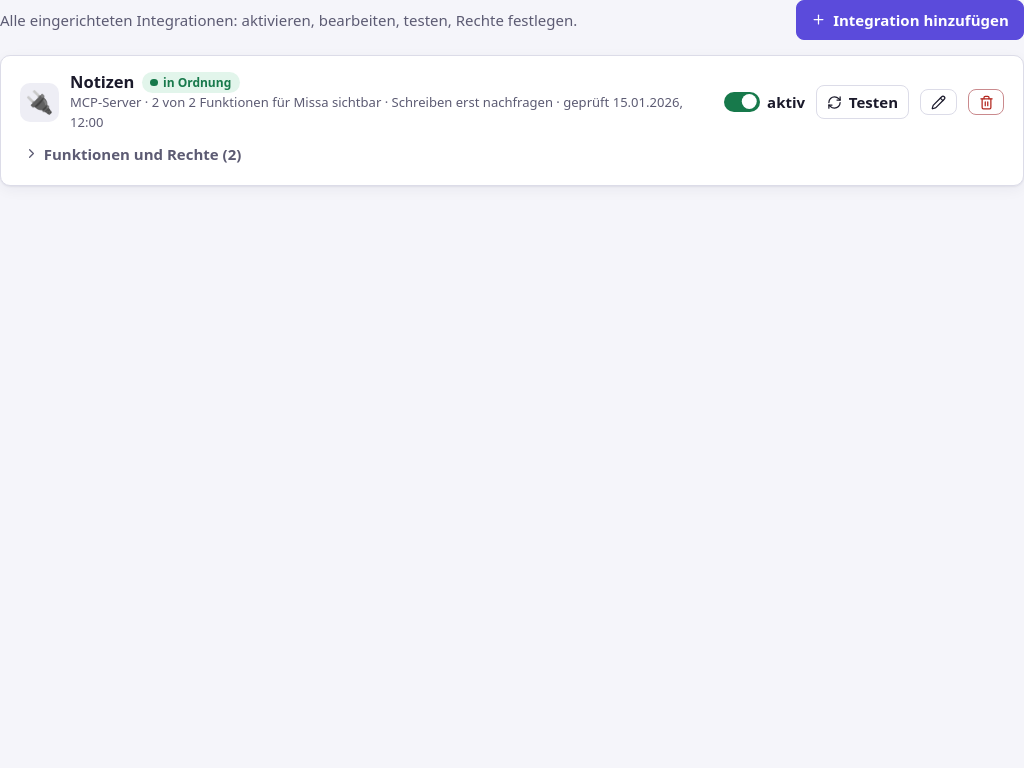
Test: Bearbeiten speichert Name und Formular, Entfernen fragt nach
Click the button named "Notizen bearbeiten": (938, 102) [920,89,956,115]
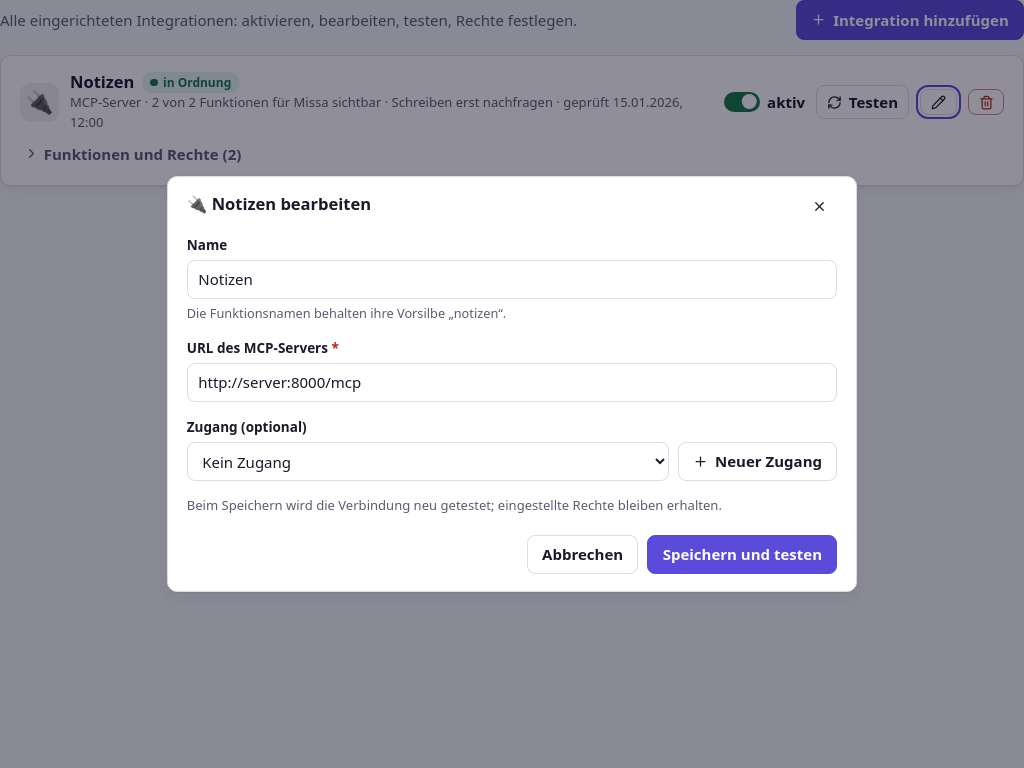
Expected: the field labelled "URL des MCP-Servers *" holds "http://server:8000/mcp", [187,362,837,402]
Replace the text in the field labelled "Name" with "Meine Notizen": (512, 279) [187,260,837,299]
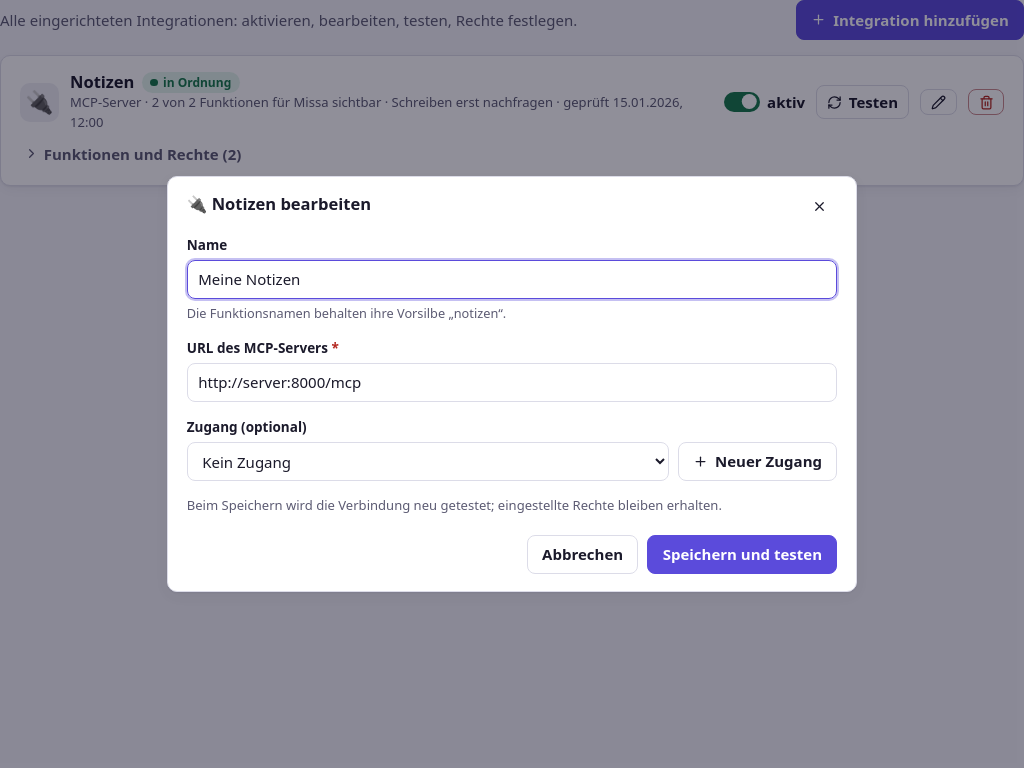
Replace the text in the field labelled "URL des MCP-Servers *" with "http://neu:9000/mcp": (512, 382) [187,362,837,402]
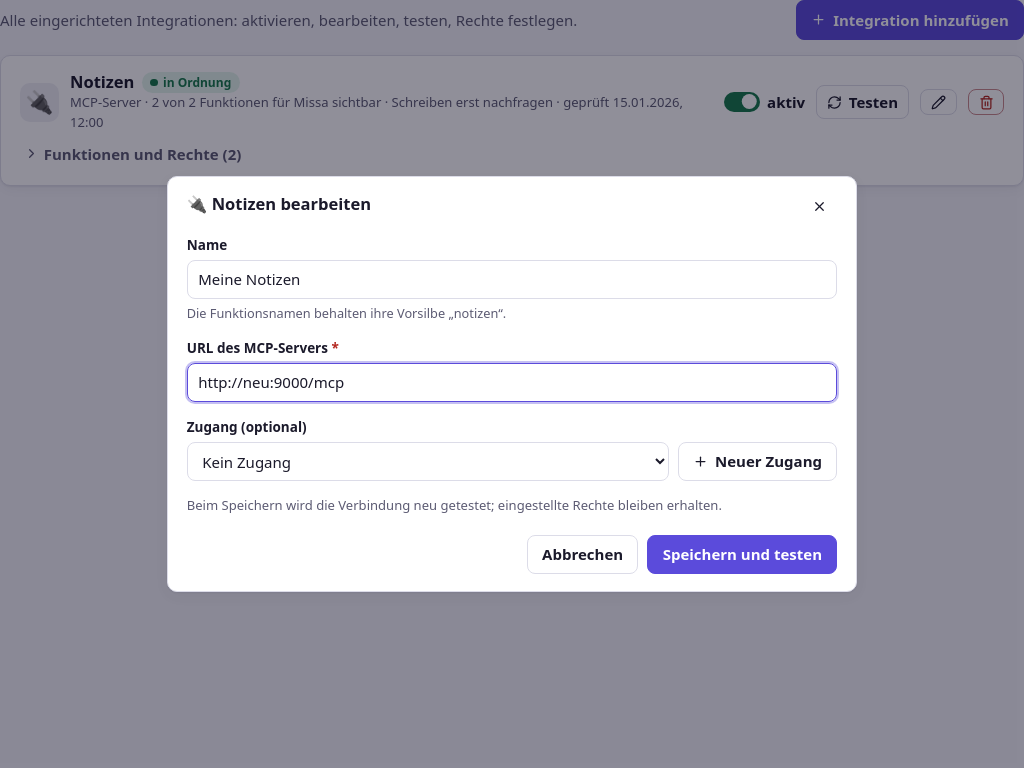
Click the button "Speichern und testen": (742, 554) [647,535,837,574]
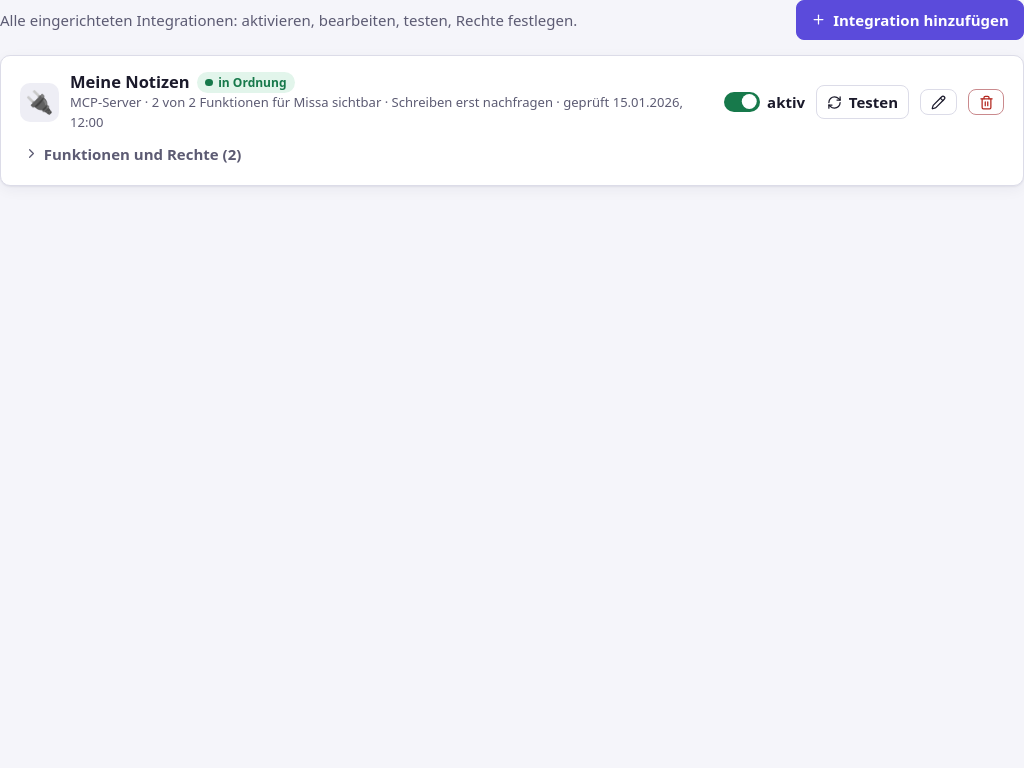
Expected: the element "Meine Notizen" is shown, [0,54,1023,186]
Click the button named "Meine Notizen entfernen": (986, 102) [968,89,1004,115]
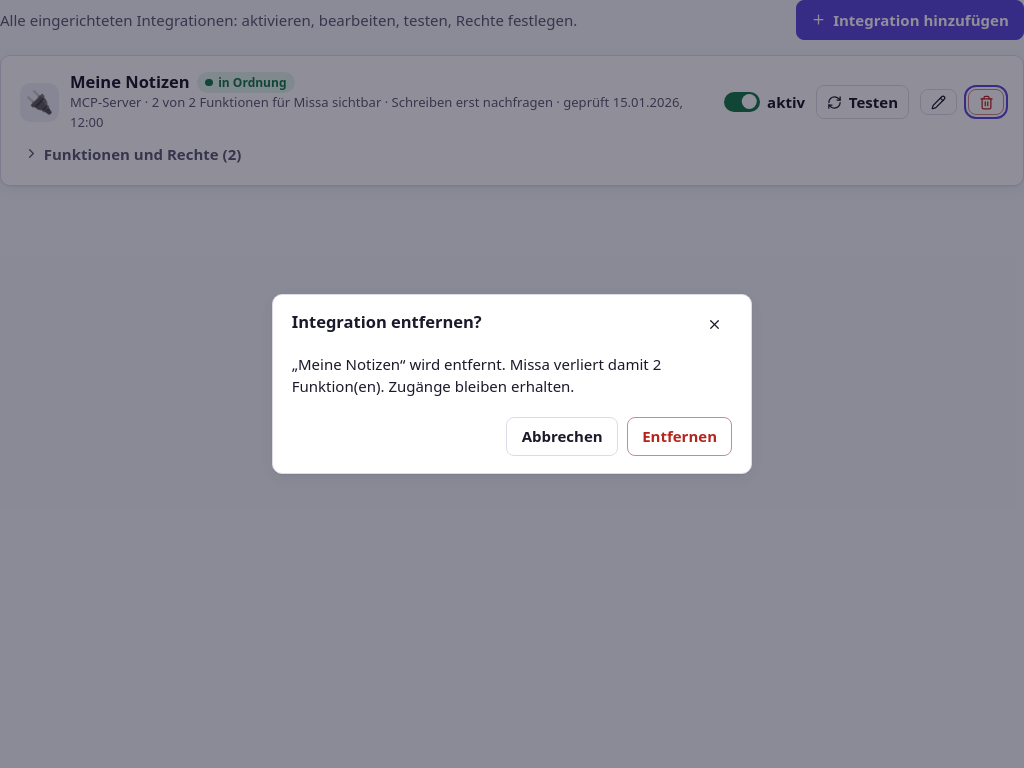
Click the button "Entfernen": (680, 436) [627,417,732,456]
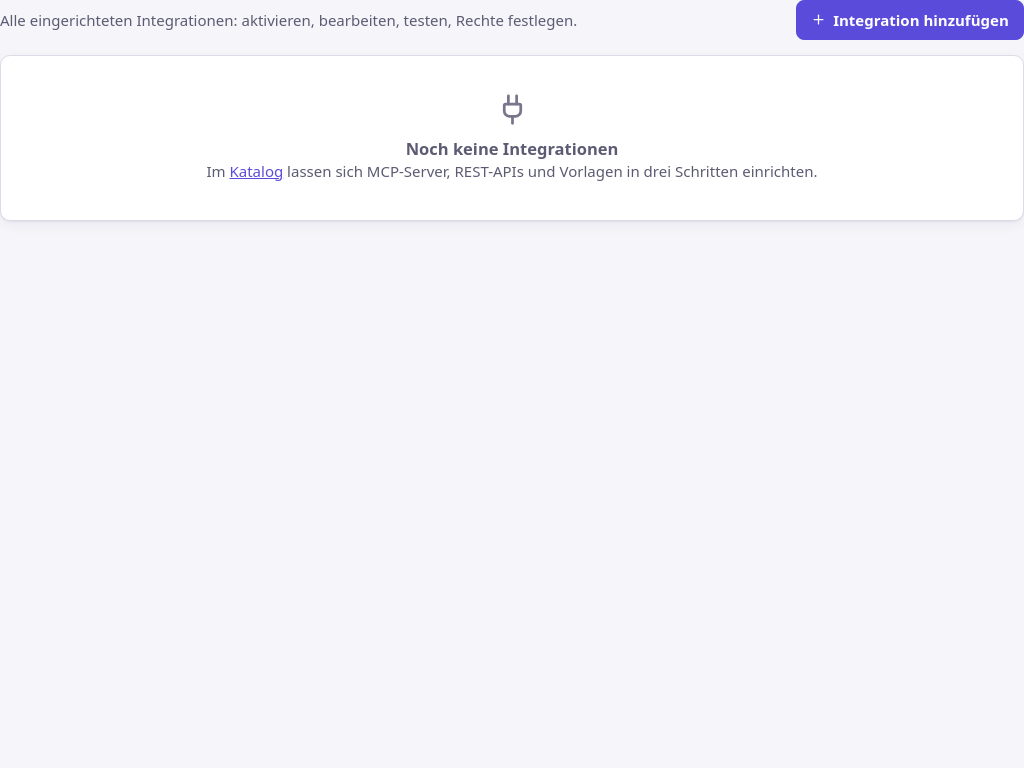
Expected: the heading "Noch keine Integrationen" is shown, [406,137,618,160]
